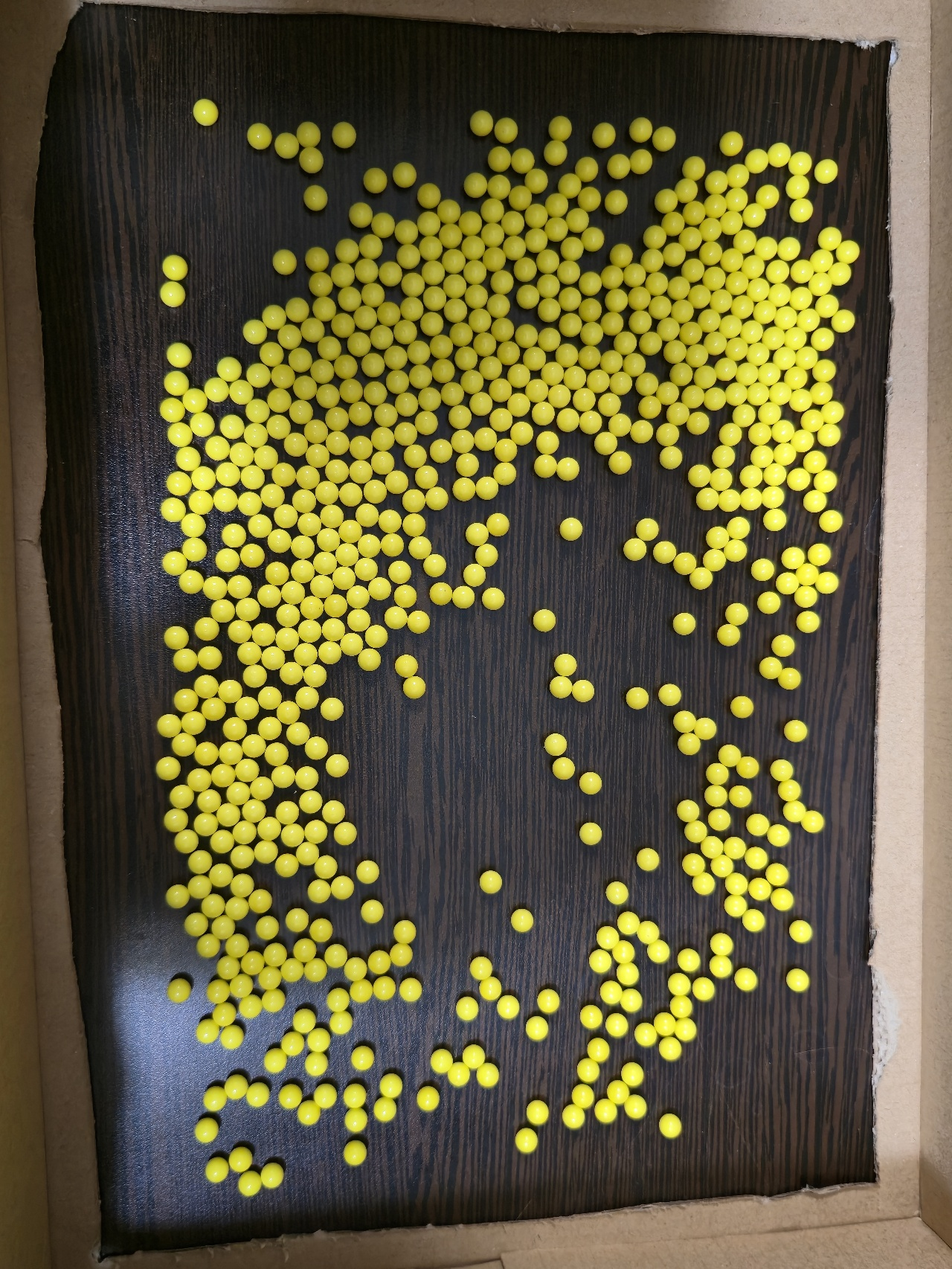yellow_bead: (181, 452, 196, 466), (222, 362, 237, 376), (249, 428, 263, 442), (225, 420, 239, 434), (188, 543, 202, 556), (187, 518, 200, 532), (173, 348, 186, 362), (166, 287, 179, 301), (210, 442, 225, 454), (804, 816, 820, 827), (319, 1090, 332, 1103), (312, 1034, 325, 1047), (747, 914, 760, 927), (194, 855, 207, 868), (263, 822, 276, 835), (281, 806, 294, 819), (300, 772, 313, 785), (241, 764, 254, 777), (282, 609, 295, 622), (221, 554, 234, 567), (194, 496, 207, 509), (219, 493, 232, 506), (266, 489, 279, 502), (369, 485, 382, 498), (197, 472, 210, 485), (222, 468, 235, 481), (235, 448, 248, 461), (272, 420, 285, 433), (188, 394, 201, 407), (252, 369, 265, 382), (248, 325, 261, 338), (168, 261, 181, 274), (791, 180, 804, 193), (266, 1169, 278, 1183), (532, 1105, 544, 1119), (436, 1055, 448, 1069), (531, 1021, 543, 1035), (611, 1018, 623, 1032), (502, 1000, 514, 1014), (330, 949, 342, 963), (208, 582, 222, 594), (243, 498, 257, 510), (246, 471, 260, 483), (600, 1105, 612, 1118), (385, 1079, 397, 1092), (482, 1069, 494, 1082), (468, 1050, 480, 1063), (640, 1028, 652, 1041), (298, 1015, 310, 1028), (461, 1002, 473, 1015), (244, 1001, 257, 1013), (625, 994, 637, 1007), (698, 983, 710, 996), (673, 978, 686, 990), (740, 973, 752, 986), (683, 954, 695, 967), (795, 925, 808, 937), (313, 885, 325, 898), (215, 869, 228, 881), (750, 852, 763, 864), (302, 847, 314, 860), (286, 829, 299, 841), (238, 826, 250, 839), (222, 809, 235, 821), (248, 739, 260, 752), (248, 670, 261, 682), (233, 581, 246, 593), (184, 576, 197, 588), (756, 564, 769, 576), (273, 535, 286, 547), (228, 529, 240, 542), (303, 518, 316, 530), (167, 503, 180, 515), (298, 495, 311, 507), (321, 486, 333, 499), (302, 471, 315, 483), (331, 465, 344, 477), (376, 457, 389, 469), (260, 451, 273, 463), (289, 438, 302, 450), (331, 437, 344, 449), (175, 428, 187, 441), (197, 418, 209, 431), (251, 405, 264, 417), (211, 383, 223, 396), (818, 364, 831, 376), (268, 311, 280, 324), (751, 155, 763, 168), (665, 1119, 676, 1133), (627, 1067, 638, 1081), (665, 1042, 676, 1056), (405, 983, 416, 997), (240, 702, 254, 713), (521, 1136, 533, 1148), (349, 1090, 361, 1102), (226, 1032, 238, 1044), (792, 974, 804, 986), (475, 962, 487, 974), (217, 922, 229, 934), (611, 887, 623, 899), (336, 881, 348, 893), (236, 879, 248, 891), (698, 878, 710, 890), (485, 876, 497, 888), (320, 861, 332, 873), (260, 846, 272, 858), (181, 835, 193, 847), (773, 829, 785, 841), (310, 826, 322, 838), (305, 796, 317, 808), (193, 774, 205, 786), (277, 771, 289, 783), (558, 762, 570, 774), (331, 759, 343, 771), (550, 739, 562, 751), (292, 727, 304, 739), (187, 716, 199, 728), (326, 703, 338, 715), (301, 692, 313, 704), (309, 669, 321, 681), (346, 638, 358, 650), (328, 623, 340, 635), (353, 614, 365, 626), (338, 572, 350, 584), (393, 566, 405, 578), (297, 541, 309, 553), (825, 515, 837, 527), (769, 514, 781, 526), (326, 510, 338, 522), (280, 510, 292, 522), (361, 509, 373, 521), (809, 495, 821, 507), (345, 488, 357, 500), (481, 482, 493, 494), (769, 469, 781, 481), (355, 466, 367, 478), (718, 451, 730, 463), (435, 445, 447, 457), (600, 437, 612, 449), (457, 435, 469, 447), (480, 433, 492, 445), (377, 433, 389, 445), (823, 429, 835, 441), (662, 428, 674, 440), (400, 428, 412, 440), (777, 425, 789, 437), (738, 410, 750, 422), (537, 408, 549, 420), (295, 405, 307, 417), (513, 399, 525, 411), (475, 398, 487, 410), (795, 394, 807, 406), (817, 333, 829, 345), (283, 330, 295, 342), (837, 315, 849, 327), (821, 300, 833, 312), (834, 268, 846, 280), (630, 1100, 641, 1113), (595, 955, 606, 968), (643, 926, 654, 939), (623, 917, 634, 930), (517, 914, 528, 927), (292, 913, 303, 926), (367, 905, 378, 918), (208, 899, 219, 912), (754, 883, 765, 896), (771, 869, 784, 880), (176, 790, 187, 803), (162, 762, 175, 773), (270, 748, 283, 759), (263, 722, 276, 733), (285, 667, 298, 678), (257, 629, 270, 640), (241, 603, 254, 614), (287, 586, 300, 597), (315, 580, 328, 591), (821, 577, 834, 588), (322, 533, 335, 544), (819, 475, 832, 486), (753, 428, 766, 439), (763, 408, 776, 419), (826, 407, 839, 418), (273, 395, 286, 406), (771, 266, 784, 277), (841, 246, 854, 257), (784, 242, 795, 255), (823, 233, 836, 244), (774, 148, 785, 161), (280, 140, 293, 151), (788, 807, 802, 817), (568, 1111, 579, 1123), (454, 1070, 465, 1082), (583, 1064, 594, 1076), (350, 963, 361, 975), (653, 946, 664, 958), (716, 939, 728, 950), (399, 925, 410, 937), (190, 919, 202, 930), (194, 881, 205, 893), (731, 878, 742, 890), (362, 866, 373, 878), (280, 859, 292, 870), (236, 851, 248, 862), (730, 842, 741, 854), (216, 835, 228, 846), (753, 819, 764, 831), (170, 815, 182, 826), (328, 806, 339, 818), (585, 777, 596, 789), (776, 765, 788, 776), (791, 725, 803, 736), (163, 719, 175, 730), (679, 716, 691, 727), (560, 659, 571, 671), (324, 647, 336, 658), (370, 631, 382, 642), (234, 626, 246, 637), (678, 618, 690, 629), (390, 612, 402, 623), (732, 608, 743, 620), (763, 597, 775, 608), (458, 591, 469, 603), (352, 591, 364, 602), (782, 578, 794, 589), (469, 569, 480, 581), (481, 549, 492, 561), (659, 547, 671, 558), (730, 545, 742, 556), (629, 544, 641, 555), (363, 540, 375, 551), (712, 532, 724, 543), (642, 524, 653, 536), (767, 492, 779, 503), (390, 476, 402, 487), (716, 474, 727, 486), (745, 471, 757, 482), (462, 459, 474, 470), (811, 456, 822, 468), (756, 451, 768, 462), (312, 449, 324, 460), (779, 449, 791, 460), (355, 441, 367, 452), (797, 435, 809, 446), (725, 428, 736, 440), (517, 427, 528, 439), (311, 425, 323, 436), (614, 419, 625, 431), (455, 411, 466, 423), (380, 409, 392, 420), (672, 408, 684, 419), (579, 393, 590, 405), (554, 390, 565, 402), (236, 385, 248, 396), (173, 376, 184, 388), (779, 353, 791, 364), (266, 348, 277, 360), (760, 306, 771, 318), (450, 304, 462, 315), (429, 292, 441, 303), (761, 242, 772, 254), (544, 995, 554, 1008), (203, 797, 216, 807), (263, 692, 276, 702), (224, 685, 237, 695), (281, 633, 294, 643), (263, 590, 276, 600), (373, 582, 386, 592), (246, 549, 259, 559), (254, 523, 267, 533), (167, 404, 177, 417), (357, 1054, 368, 1065), (336, 1018, 347, 1029), (623, 969, 634, 980), (231, 940, 242, 951), (231, 903, 242, 914), (777, 895, 788, 906), (717, 861, 728, 872), (689, 859, 700, 870), (643, 854, 654, 865), (707, 841, 718, 852), (585, 828, 596, 839), (690, 826, 701, 837), (199, 819, 210, 830), (714, 814, 725, 825), (683, 806, 694, 817), (632, 693, 643, 704), (664, 690, 675, 701), (578, 685, 589, 696), (724, 629, 735, 640), (539, 615, 550, 626), (488, 593, 499, 604), (733, 522, 744, 533), (385, 515, 396, 526), (725, 495, 736, 506), (702, 493, 713, 504), (173, 477, 184, 488), (794, 474, 805, 485), (695, 470, 706, 481), (540, 460, 551, 471), (666, 452, 677, 463), (542, 437, 553, 448), (585, 417, 596, 428), (421, 417, 432, 428), (807, 415, 818, 426), (563, 414, 574, 425), (496, 414, 507, 425), (604, 399, 615, 410), (425, 393, 436, 404), (731, 388, 742, 399), (548, 367, 559, 378), (368, 359, 379, 370), (295, 354, 306, 365), (753, 348, 764, 359), (307, 324, 318, 335), (292, 304, 303, 315), (681, 1024, 691, 1036), (310, 965, 320, 977), (288, 964, 298, 976), (715, 963, 727, 973), (270, 949, 280, 961), (730, 902, 742, 912), (173, 890, 183, 902), (339, 827, 351, 837), (232, 787, 244, 797), (256, 782, 268, 792), (713, 768, 723, 780), (724, 750, 736, 760), (364, 654, 376, 664), (800, 592, 812, 602), (695, 573, 707, 583), (814, 549, 826, 559), (431, 492, 443, 502), (421, 471, 433, 481), (277, 469, 289, 479), (499, 468, 511, 478), (638, 425, 648, 437), (331, 413, 343, 423), (403, 398, 413, 410), (802, 352, 812, 364), (770, 332, 780, 344), (775, 289, 785, 301), (404, 250, 414, 262), (310, 745, 323, 754), (267, 655, 280, 664), (216, 605, 229, 614), (287, 1040, 298, 1050), (268, 997, 279, 1007), (396, 950, 407, 960), (619, 947, 629, 958), (684, 739, 695, 749), (701, 723, 711, 734), (765, 663, 776, 673), (779, 640, 789, 651), (803, 617, 814, 627), (408, 495, 419, 505), (747, 493, 757, 504), (411, 450, 421, 461), (776, 388, 786, 399), (301, 382, 311, 393), (617, 377, 627, 388), (594, 375, 604, 386), (571, 372, 581, 383), (743, 368, 753, 379), (721, 364, 732, 374), (392, 351, 402, 362), (748, 326, 758, 337), (797, 292, 807, 303), (409, 279, 419, 290), (565, 266, 575, 277), (471, 266, 481, 277), (734, 170, 744, 181), (234, 1158, 246, 1167), (269, 1059, 281, 1068), (261, 922, 273, 931), (248, 808, 260, 817), (225, 747, 237, 756), (178, 739, 190, 748), (282, 707, 294, 716), (492, 518, 504, 527), (458, 483, 470, 492), (614, 457, 626, 466), (712, 393, 721, 405), (204, 109, 213, 121), (243, 647, 256, 655), (303, 626, 316, 634), (360, 567, 373, 575), (168, 562, 181, 570), (344, 525, 357, 533), (224, 963, 234, 973), (711, 791, 721, 801), (681, 558, 691, 568), (710, 555, 720, 565), (324, 390, 334, 400), (533, 385, 543, 395), (643, 379, 653, 389), (515, 370, 525, 380), (318, 366, 328, 376), (487, 362, 497, 372), (665, 324, 675, 334), (339, 269, 349, 279), (670, 248, 680, 258), (425, 218, 435, 228), (661, 1018, 670, 1029), (203, 940, 212, 951), (179, 694, 190, 703), (804, 569, 813, 580), (387, 539, 398, 548), (408, 519, 419, 528), (695, 417, 704, 428), (755, 388, 764, 399), (702, 371, 711, 382), (532, 353, 541, 364), (378, 331, 387, 342), (727, 321, 736, 332), (755, 284, 764, 295), (450, 280, 461, 289), (387, 268, 396, 279), (431, 266, 440, 277), (362, 266, 373, 275), (750, 261, 759, 272), (280, 257, 289, 268), (741, 235, 750, 246), (596, 1044, 604, 1056), (230, 722, 242, 730), (179, 654, 191, 662), (204, 652, 216, 660), (170, 632, 182, 640), (413, 616, 425, 624), (271, 568, 283, 576), (565, 527, 577, 535), (419, 370, 427, 382), (713, 337, 721, 349), (308, 153, 316, 165), (300, 944, 309, 954), (736, 791, 746, 800), (402, 661, 412, 670), (503, 444, 512, 454), (690, 392, 699, 402), (372, 388, 381, 398), (694, 350, 703, 360), (563, 350, 573, 359), (416, 347, 425, 357), (733, 343, 742, 353), (523, 330, 533, 339), (589, 328, 598, 338), (494, 300, 504, 309), (370, 289, 379, 299), (728, 218, 737, 228), (765, 190, 774, 200), (683, 184, 692, 194), (353, 1149, 361, 1160), (253, 1089, 264, 1097), (173, 986, 181, 997), (239, 981, 247, 992), (400, 591, 411, 599), (562, 467, 573, 475), (632, 359, 640, 370), (327, 342, 335, 353), (547, 333, 555, 344), (363, 312, 371, 323), (740, 301, 748, 312), (719, 295, 727, 306), (534, 234, 542, 245), (662, 133, 670, 144), (311, 1059, 323, 1066), (605, 986, 617, 993), (489, 983, 496, 995), (602, 931, 614, 938), (341, 553, 353, 560), (820, 167, 827, 179), (787, 786, 796, 795), (449, 388, 458, 397), (402, 327, 411, 336), (675, 282, 684, 291), (344, 246, 353, 255), (266, 974, 274, 984), (319, 924, 327, 934), (218, 770, 228, 778), (356, 408, 366, 416), (665, 388, 673, 398), (609, 356, 617, 366), (357, 338, 365, 348), (658, 302, 666, 312), (348, 294, 356, 304), (546, 281, 554, 291), (513, 242, 521, 252), (714, 176, 722, 186), (692, 162, 700, 172), (602, 129, 610, 139), (582, 1090, 589, 1101), (378, 956, 385, 967), (556, 686, 567, 693), (331, 600, 342, 607), (436, 588, 447, 595), (396, 376, 403, 387), (527, 290, 534, 301), (257, 895, 266, 903), (200, 684, 212, 690), (788, 673, 796, 682), (297, 569, 309, 575), (277, 374, 286, 382), (679, 368, 687, 377), (649, 338, 657, 347), (322, 306, 330, 315), (632, 270, 640, 279), (368, 242, 376, 251), (591, 233, 599, 242), (652, 231, 660, 240), (403, 227, 412, 235), (358, 211, 367, 219), (795, 205, 801, 217), (402, 170, 410, 179), (341, 131, 349, 140), (424, 1098, 434, 1105), (220, 1011, 227, 1021), (471, 376, 478, 386), (674, 346, 681, 356), (430, 318, 437, 328), (639, 317, 646, 327), (708, 315, 715, 325), (616, 295, 623, 305), (475, 291, 482, 301), (501, 276, 508, 286), (713, 273, 720, 283), (651, 254, 658, 264), (474, 180, 481, 190), (618, 160, 625, 170), (304, 131, 314, 138), (231, 1082, 242, 1088), (616, 197, 622, 208), (307, 602, 315, 610), (452, 258, 460, 266), (639, 124, 647, 132), (381, 985, 390, 992), (202, 748, 211, 755), (209, 703, 218, 710), (681, 306, 688, 315), (411, 303, 418, 312), (472, 242, 479, 251), (492, 229, 499, 238), (535, 210, 542, 219), (314, 193, 321, 202), (640, 155, 647, 164), (503, 126, 512, 133), (480, 118, 487, 127), (747, 762, 753, 772), (742, 701, 748, 711), (788, 553, 800, 558), (625, 337, 631, 347), (480, 315, 486, 325), (549, 305, 555, 315), (570, 294, 576, 304), (657, 278, 663, 288), (548, 256, 554, 266), (572, 244, 578, 254), (680, 1004, 687, 1012), (324, 561, 332, 568), (648, 402, 656, 409), (502, 324, 509, 332), (429, 245, 437, 252), (491, 207, 498, 215), (799, 157, 806, 165), (578, 214, 583, 225), (300, 653, 309, 659), (570, 320, 576, 329), (699, 292, 705, 301), (737, 280, 743, 289), (666, 195, 672, 204), (499, 181, 505, 190), (522, 155, 528, 164), (501, 384, 506, 394), (419, 546, 426, 553), (465, 355, 472, 362), (611, 320, 618, 327), (511, 219, 518, 226), (730, 138, 737, 145), (815, 388, 823, 394), (590, 279, 596, 287), (730, 258, 738, 264), (383, 220, 389, 228), (536, 175, 542, 183), (554, 149, 562, 155), (691, 235, 696, 244), (591, 1017, 597, 1024), (358, 989, 365, 995), (206, 626, 213, 632), (350, 387, 357, 393), (588, 353, 595, 359), (715, 201, 721, 208), (569, 182, 576, 188), (216, 990, 221, 998), (526, 266, 531, 274), (711, 225, 716, 233), (558, 201, 563, 209), (477, 533, 483, 539), (346, 364, 352, 370), (560, 124, 566, 130), (444, 367, 449, 374), (509, 348, 514, 355), (486, 340, 491, 347), (320, 281, 325, 288), (315, 256, 322, 261), (588, 164, 593, 171), (619, 1090, 623, 1098), (442, 341, 446, 349), (695, 266, 699, 274), (558, 225, 562, 233), (692, 330, 697, 336), (390, 311, 395, 317), (640, 295, 645, 301), (449, 208, 454, 214), (500, 155, 505, 161), (200, 105, 210, 108), (461, 331, 466, 336), (451, 234, 456, 239), (411, 687, 419, 690), (613, 274, 617, 280), (623, 251, 627, 257), (713, 249, 716, 257), (344, 321, 347, 328), (376, 177, 379, 184), (824, 164, 831, 167), (201, 1126, 205, 1131), (358, 1117, 362, 1122), (340, 998, 344, 1003), (435, 564, 440, 568), (471, 220, 476, 224), (430, 193, 434, 198), (794, 332, 800, 335), (496, 255, 499, 261), (593, 307, 596, 312), (472, 532, 475, 536), (176, 388, 180, 391), (782, 312, 788, 314), (675, 222, 679, 225), (522, 196, 526, 199), (203, 1027, 208, 1029), (253, 962, 255, 967), (807, 314, 812, 316), (800, 265, 805, 267), (800, 204, 805, 206), (319, 562, 322, 565), (414, 546, 417, 549), (794, 167, 797, 170), (696, 211, 698, 215), (752, 209, 756, 211), (737, 194, 741, 196), (350, 1117, 353, 1119), (814, 283, 816, 286), (389, 1108, 391, 1110), (335, 997, 339, 998), (200, 627, 202, 629), (803, 316, 805, 318), (820, 255, 824, 256), (212, 1032, 213, 1035), (768, 368, 771, 369), (252, 1182, 254, 1183), (249, 1181, 251, 1182), (221, 1170, 222, 1172), (787, 558, 788, 560), (795, 372, 797, 373), (764, 371, 765, 373), (780, 319, 781, 321), (817, 289, 819, 290), (733, 195, 735, 196), (254, 1184, 255, 1185), (212, 1168, 213, 1169), (200, 1131, 201, 1132), (383, 1106, 384, 1107), (431, 566, 432, 567), (429, 564, 430, 565), (243, 398, 244, 399), (825, 388, 826, 389), (790, 376, 791, 377), (763, 373, 764, 374), (800, 336, 801, 337), (792, 334, 793, 335), (805, 315, 806, 316), (826, 280, 827, 281), (798, 267, 799, 268), (805, 266, 806, 267), (825, 256, 826, 257), (819, 256, 820, 257), (591, 199, 592, 200), (230, 1088, 231, 1088), (617, 997, 617, 997), (803, 816, 803, 817), (788, 556, 788, 557), (204, 431, 205, 431), (210, 388, 210, 388), (801, 376, 802, 376), (808, 269, 808, 269), (797, 269, 798, 269), (817, 258, 817, 259), (753, 222, 753, 222), (759, 213, 760, 213), (757, 211, 758, 211), (799, 170, 800, 170)
